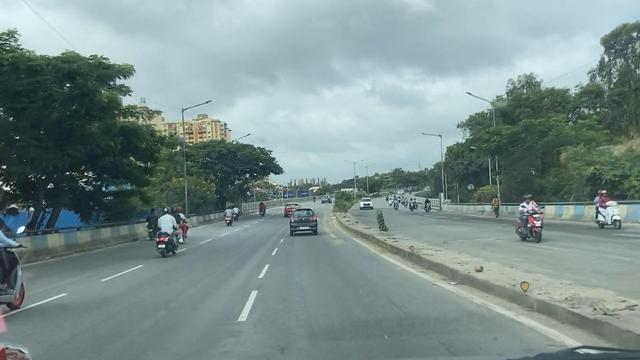LMV: (158, 210, 175, 252), (292, 208, 315, 232)
RoadDamages: (328, 227, 345, 246)
